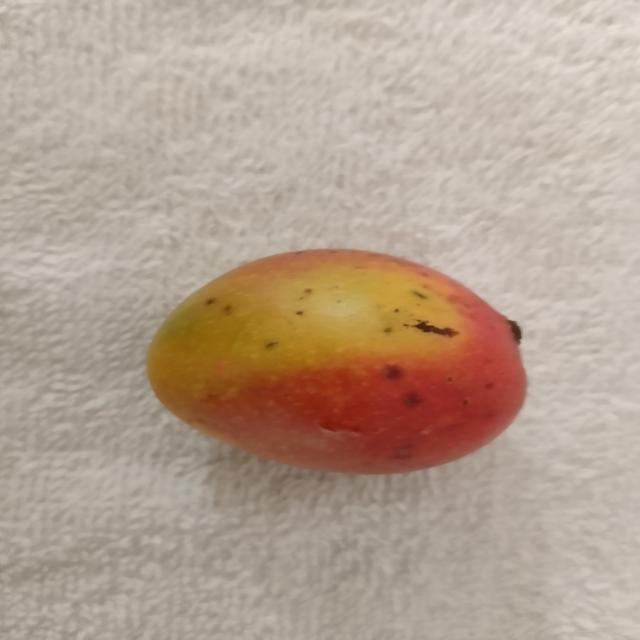mango: (148, 250, 526, 473)
